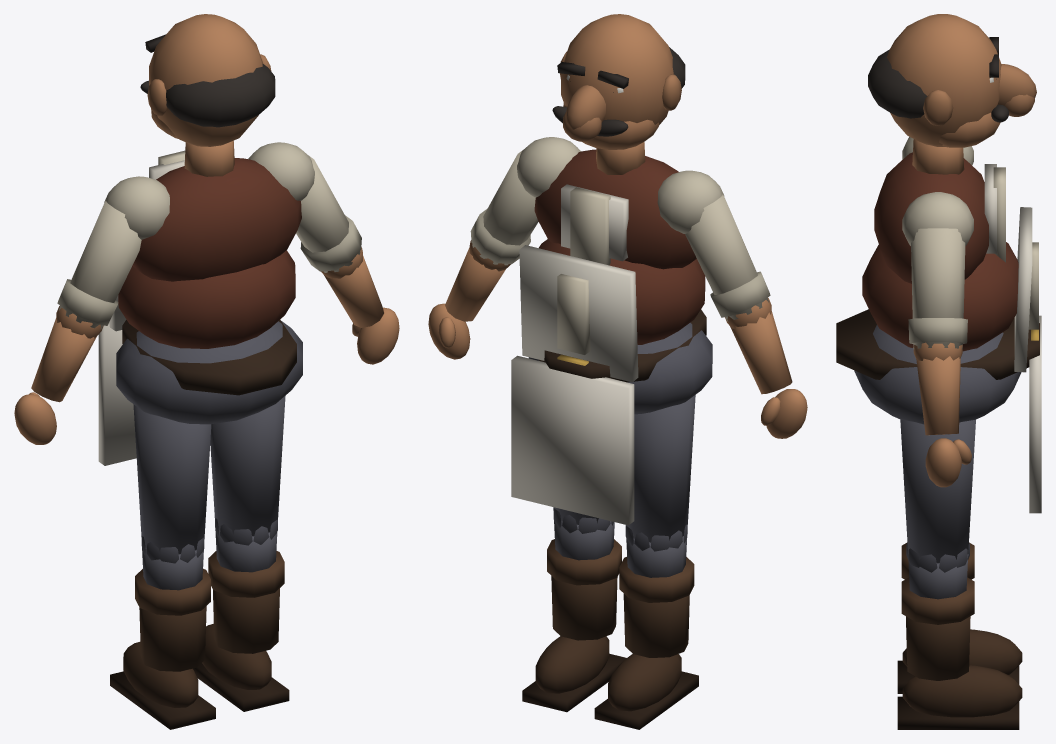
File: taberneiro_1.glb
The picture shows the model from 3 angles, left to right: view 1: azimuth 30°, elevation 25°; view 2: azimuth 150°, elevation 25°; view 3: azimuth 270°, elevation 25°; orthographic projection.
Parts seen in each view (by area): view 1: Chest, Hips, Head, Spine, RightUpperLeg, RightLowerLeg, LeftLowerLeg, LeftUpperLeg, RightUpperArm, RightFoot, LeftFoot, LeftUpperArm (+5 smaller); view 2: Hips, Chest, Spine, Head, RightLowerLeg, LeftLowerLeg, RightUpperLeg, RightUpperArm, RightFoot, LeftFoot, LeftUpperArm, RightForeArm (+4 smaller); view 3: Head, Hips, Chest, Spine, LeftLowerLeg, LeftUpperLeg, LeftFoot, LeftUpperArm, LeftForeArm, RightFoot, LeftHand, Neck (+1 smaller).
Boxes of the visible parts, x1=… form: Chest: x1=104, y1=142, x2=314, y2=281; Hips: x1=98, y1=320, x2=302, y2=465; Head: x1=140, y1=14, x2=275, y2=146; Spine: x1=109, y1=250, x2=295, y2=348; RightUpperLeg: x1=133, y1=404, x2=211, y2=554; RightLowerLeg: x1=135, y1=536, x2=210, y2=671; LeftLowerLeg: x1=208, y1=518, x2=284, y2=653; LeftUpperLeg: x1=210, y1=396, x2=285, y2=536; RightUpperArm: x1=57, y1=200, x2=141, y2=329; RightFoot: x1=110, y1=642, x2=215, y2=729; LeftFoot: x1=193, y1=623, x2=289, y2=711; LeftUpperArm: x1=296, y1=156, x2=361, y2=272; Hips: x1=511, y1=309, x2=712, y2=525; Chest: x1=517, y1=137, x2=724, y2=269; Spine: x1=519, y1=239, x2=705, y2=382; Head: x1=552, y1=14, x2=685, y2=149; RightLowerLeg: x1=619, y1=524, x2=694, y2=657; LeftLowerLeg: x1=547, y1=508, x2=621, y2=640; RightUpperLeg: x1=625, y1=395, x2=695, y2=542; RightUpperArm: x1=685, y1=194, x2=770, y2=321; RightFoot: x1=594, y1=654, x2=698, y2=729; LeftFoot: x1=522, y1=636, x2=626, y2=712; LeftUpperArm: x1=470, y1=150, x2=538, y2=265; RightForeArm: x1=725, y1=298, x2=792, y2=394; Head: x1=868, y1=14, x2=1036, y2=147; Hips: x1=836, y1=309, x2=1041, y2=513; Chest: x1=874, y1=137, x2=1005, y2=283; Spine: x1=862, y1=207, x2=1038, y2=372; LeftLowerLeg: x1=901, y1=543, x2=974, y2=680; LeftUpperLeg: x1=900, y1=419, x2=975, y2=563; LeftFoot: x1=897, y1=665, x2=1022, y2=729; LeftUpperArm: x1=908, y1=228, x2=967, y2=349; LeftForeArm: x1=913, y1=342, x2=962, y2=435; RightFoot: x1=897, y1=629, x2=1022, y2=693; LeftHand: x1=925, y1=438, x2=971, y2=487; Neck: x1=912, y1=139, x2=964, y2=174.
Size of the model in its own units: 1.09 by 1.86 by 0.5061.
